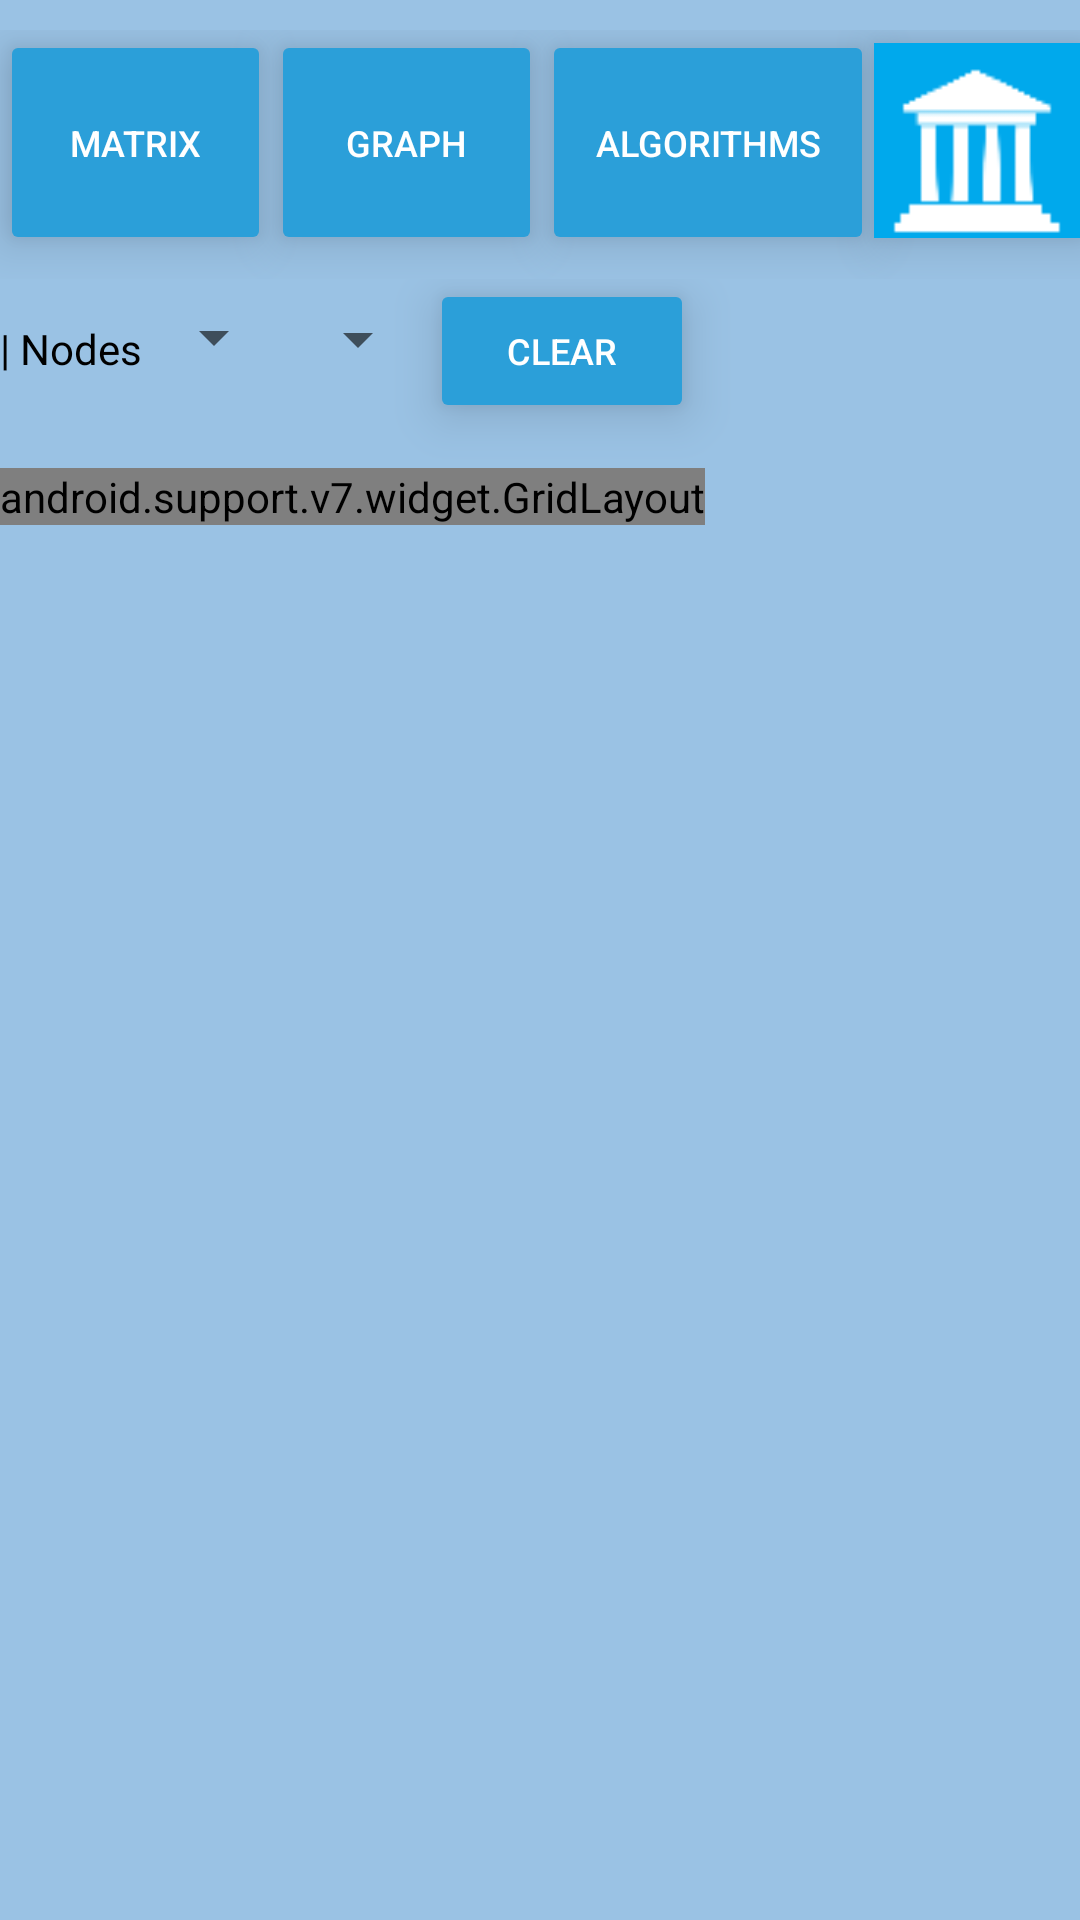

Icons on this 1080px×1920px Android screen, each with the point to tap as point (x, y):
lib: point (977, 140)
